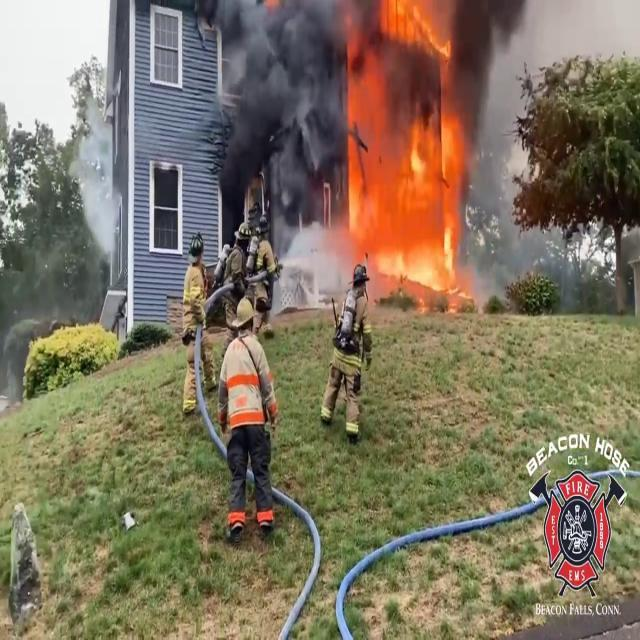Fire: (336, 3, 478, 296)
Smoke: (206, 2, 336, 223), (78, 96, 121, 286)
